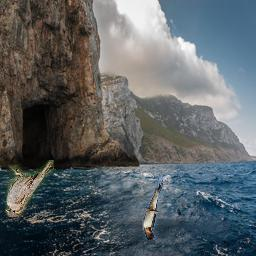Sparrow: (6, 161, 55, 218)
Swallow: (143, 174, 164, 240)
